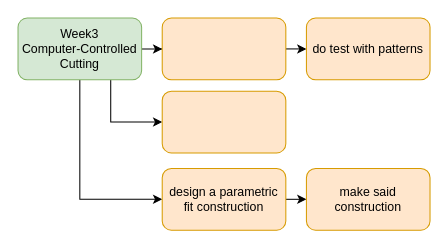
This 448x248 diagram has some shape labels left out. The box of each missing label's shape, as (x1, y1, x2, y2) in pixels:
create test patterns: (161, 17, 286, 80)
cut something on the vinylcutter: (161, 90, 286, 153)
